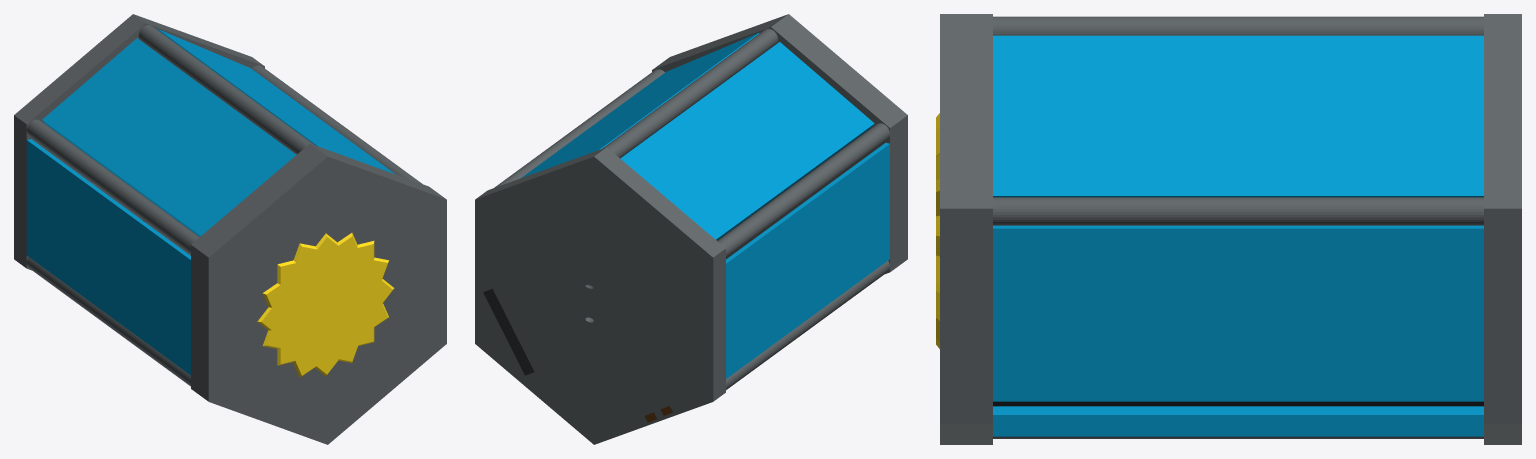
The model's file is elevator.obj.
3 renders of one model, left to right at view 1: azimuth 30°, elevation 25°; view 2: azimuth 150°, elevation 25°; view 3: azimuth 270°, elevation 25°, orthographic. The views are drawn at different scales.
Parts seen in each view (by area): view 1: group_0_6383466, group_0_-1040146473, group_0_16768282; view 2: group_0_6383466, group_0_-1040146473, group_0_2829873; view 3: group_0_-1040146473, group_0_6383466, group_0_2829873, group_0_16768282.
Boxes of the visible parts, x1,y1,x2,y2 form: group_0_6383466: (14, 14, 446, 444); group_0_-1040146473: (26, 29, 395, 375); group_0_16768282: (257, 233, 394, 377); group_0_6383466: (475, 14, 907, 444); group_0_-1040146473: (521, 33, 889, 378); group_0_2829873: (483, 289, 534, 375); group_0_-1040146473: (993, 35, 1483, 436); group_0_6383466: (940, 14, 1521, 444); group_0_2829873: (993, 401, 1483, 406); group_0_16768282: (936, 113, 939, 348).
Size of the model in its own units: 110 by 125 by 154.
